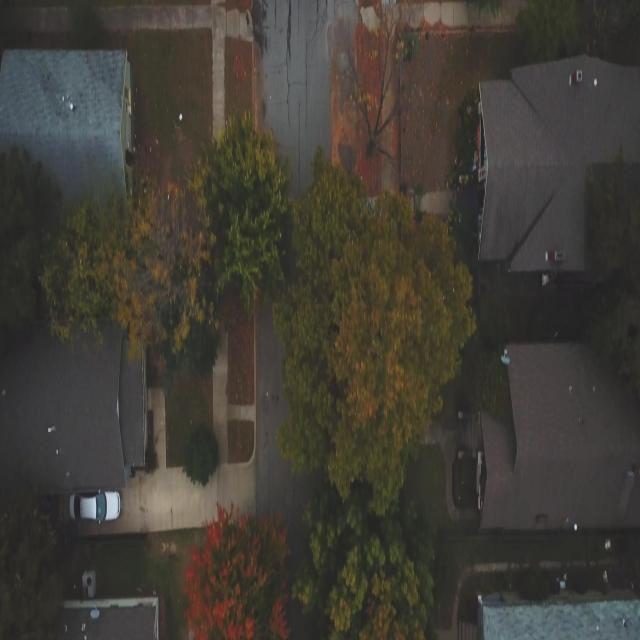Car: (61, 487, 126, 532)
